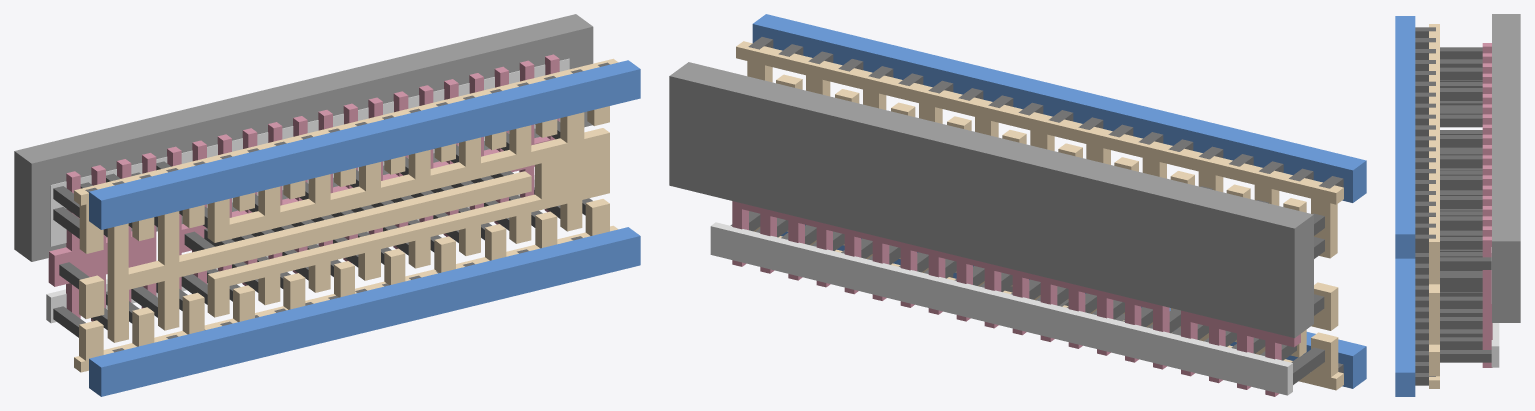
The model's file is sky130_fd_sc_hd__clkbuf_16.gds.gltf.
The picture shows the model from 3 angles, left to right: view 1: azimuth 30°, elevation 25°; view 2: azimuth 150°, elevation 25°; view 3: azimuth 270°, elevation 25°; orthographic projection. The views are drawn at different scales.
Visible parts, largest first — view 1: sky130_fd_sc_hd__clkbuf_16_li1, sky130_fd_sc_hd__clkbuf_16_met1, sky130_fd_sc_hd__clkbuf_16_nwell, sky130_fd_sc_hd__clkbuf_16_poly, sky130_fd_sc_hd__clkbuf_16_licon, sky130_fd_sc_hd__clkbuf_16_diff, sky130_fd_sc_hd__clkbuf_16_mcon; view 2: sky130_fd_sc_hd__clkbuf_16_nwell, sky130_fd_sc_hd__clkbuf_16_li1, sky130_fd_sc_hd__clkbuf_16_diff, sky130_fd_sc_hd__clkbuf_16_met1, sky130_fd_sc_hd__clkbuf_16_poly, sky130_fd_sc_hd__clkbuf_16_licon, sky130_fd_sc_hd__clkbuf_16_mcon; view 3: sky130_fd_sc_hd__clkbuf_16_licon, sky130_fd_sc_hd__clkbuf_16_nwell, sky130_fd_sc_hd__clkbuf_16_met1, sky130_fd_sc_hd__clkbuf_16_mcon, sky130_fd_sc_hd__clkbuf_16_li1, sky130_fd_sc_hd__clkbuf_16_poly, sky130_fd_sc_hd__clkbuf_16_diff.
Boxes of the visible parts, bbox=[...] form: sky130_fd_sc_hd__clkbuf_16_li1: bbox=[74, 58, 618, 372]; sky130_fd_sc_hd__clkbuf_16_met1: bbox=[89, 60, 640, 396]; sky130_fd_sc_hd__clkbuf_16_nwell: bbox=[14, 14, 593, 261]; sky130_fd_sc_hd__clkbuf_16_poly: bbox=[48, 54, 559, 321]; sky130_fd_sc_hd__clkbuf_16_licon: bbox=[53, 120, 592, 337]; sky130_fd_sc_hd__clkbuf_16_diff: bbox=[46, 58, 569, 323]; sky130_fd_sc_hd__clkbuf_16_mcon: bbox=[85, 62, 609, 352]; sky130_fd_sc_hd__clkbuf_16_nwell: bbox=[669, 62, 1313, 337]; sky130_fd_sc_hd__clkbuf_16_li1: bbox=[736, 41, 1343, 390]; sky130_fd_sc_hd__clkbuf_16_diff: bbox=[710, 222, 1292, 395]; sky130_fd_sc_hd__clkbuf_16_met1: bbox=[752, 14, 1366, 388]; sky130_fd_sc_hd__clkbuf_16_poly: bbox=[732, 201, 1300, 396]; sky130_fd_sc_hd__clkbuf_16_licon: bbox=[730, 186, 1324, 384]; sky130_fd_sc_hd__clkbuf_16_mcon: bbox=[748, 37, 1343, 373]; sky130_fd_sc_hd__clkbuf_16_licon: bbox=[1440, 47, 1491, 362]; sky130_fd_sc_hd__clkbuf_16_nwell: bbox=[1492, 14, 1520, 322]; sky130_fd_sc_hd__clkbuf_16_met1: bbox=[1395, 16, 1415, 396]; sky130_fd_sc_hd__clkbuf_16_mcon: bbox=[1415, 27, 1435, 385]; sky130_fd_sc_hd__clkbuf_16_li1: bbox=[1429, 24, 1439, 388]; sky130_fd_sc_hd__clkbuf_16_poly: bbox=[1482, 43, 1492, 367]; sky130_fd_sc_hd__clkbuf_16_diff: bbox=[1491, 247, 1499, 367].
Bounding box in the file's own units: 9.58 × 3.2 × 2.24.
